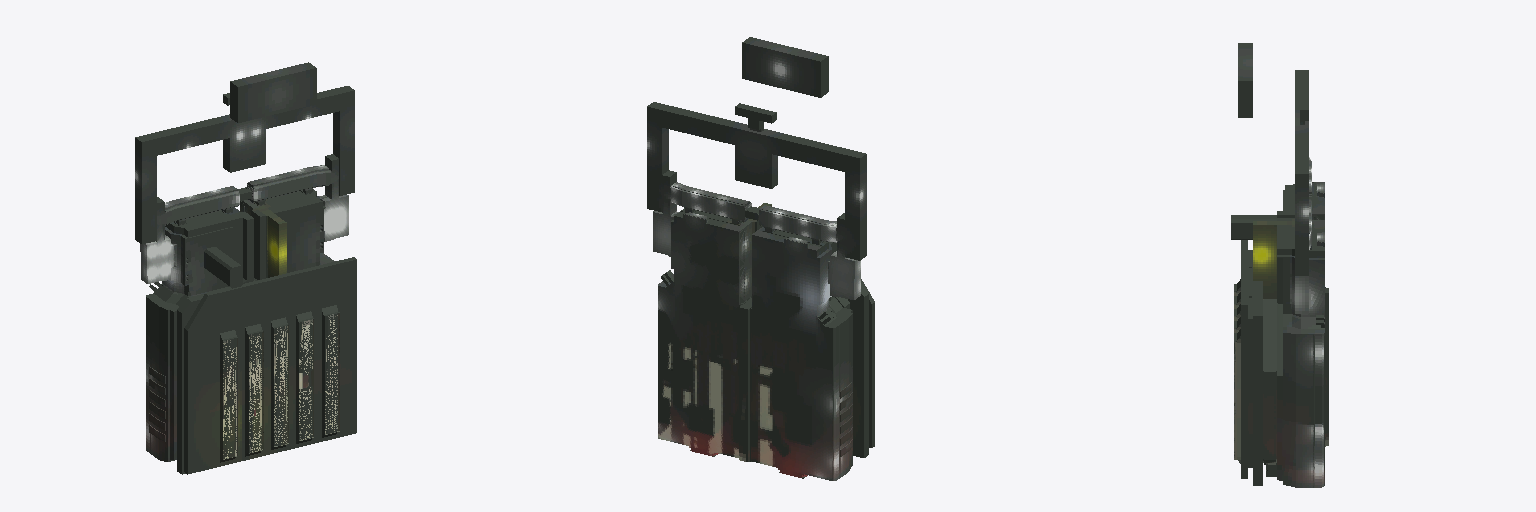
The picture shows the model from 3 angles: view 1: azimuth 30°, elevation 25°; view 2: azimuth 150°, elevation 25°; view 3: azimuth 270°, elevation 25°; orthographic projection.
Visible parts, largest first — view 1: foundry_Lightmap_1, foundry_Lightmap_0, foundry_Lightmap_5, foundry_Lightmap_3, foundry_Lightmap_4, foundry_Lightmap_2; view 2: foundry_Lightmap_0, foundry_Lightmap_3, foundry_Lightmap_1, foundry_Lightmap_4, foundry_Lightmap_5; view 3: foundry_Lightmap_3, foundry_Lightmap_1, foundry_Lightmap_5, foundry_Lightmap_0, foundry_Lightmap_4, foundry_Lightmap_2.
Part boxes in pixels (left/top/right/bottom): foundry_Lightmap_1: left=156, top=187, right=356, bottom=474; foundry_Lightmap_0: left=142, top=68, right=354, bottom=461; foundry_Lightmap_5: left=149, top=196, right=337, bottom=459; foundry_Lightmap_3: left=140, top=156, right=347, bottom=473; foundry_Lightmap_4: left=135, top=62, right=353, bottom=243; foundry_Lightmap_2: left=146, top=195, right=348, bottom=462; foundry_Lightmap_0: left=647, top=43, right=859, bottom=480; foundry_Lightmap_3: left=654, top=172, right=868, bottom=480; foundry_Lightmap_1: left=680, top=203, right=874, bottom=461; foundry_Lightmap_4: left=647, top=37, right=866, bottom=260; foundry_Lightmap_5: left=671, top=212, right=852, bottom=477; foundry_Lightmap_3: left=1249, top=157, right=1325, bottom=487; foundry_Lightmap_1: left=1231, top=184, right=1325, bottom=478; foundry_Lightmap_5: left=1277, top=183, right=1324, bottom=487; foundry_Lightmap_0: left=1231, top=190, right=1328, bottom=469; foundry_Lightmap_4: left=1238, top=43, right=1308, bottom=275; foundry_Lightmap_2: left=1234, top=184, right=1324, bottom=476.
Bounding box in the file's own units: 2869 × 4994 × 1144.
6 materials, 6 textured.